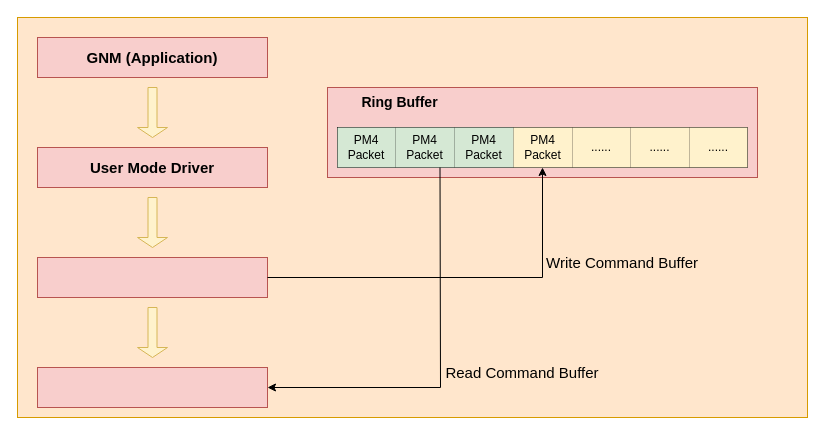
Some shapes in this 825 by 435 pixel diagram are drawn without their labels. The centre of each missing label's shape, as x and y in pixels:
"Kernel Mode Driver" goes at point 152,387.
"Operating System" goes at point 152,277.
